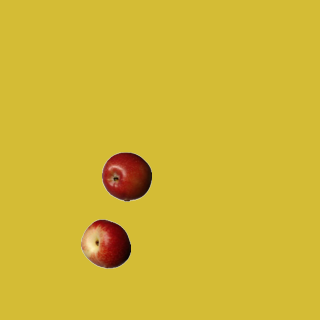Apple Braeburn: (101, 151, 151, 201)
Nectarine: (80, 218, 130, 268)
